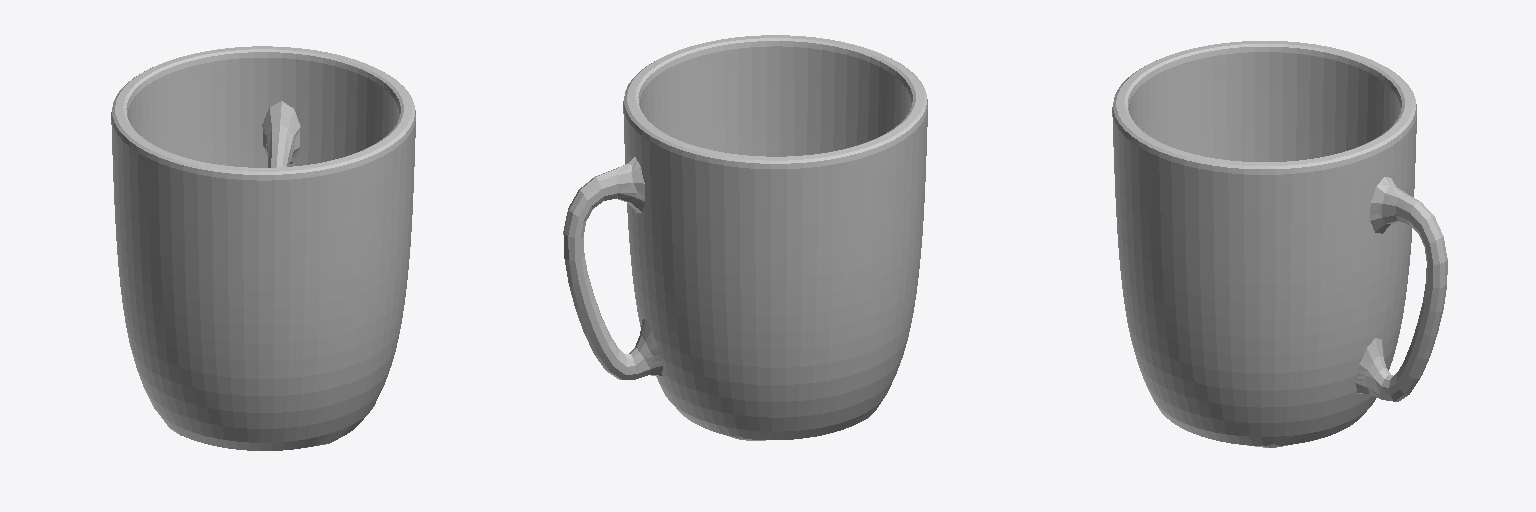
File: mug.obj
The picture shows the model from 3 angles: view 1: azimuth 30°, elevation 25°; view 2: azimuth 150°, elevation 25°; view 3: azimuth 270°, elevation 25°; orthographic projection.
Parts seen in each view (by area): view 1: mug:Mesh mug1, mug1 mug:group2; view 2: mug:Mesh mug1, mug1 mug:group2; view 3: mug:Mesh mug1, mug1 mug:group2.
Boxes of the visible parts, <box> form: mug:Mesh mug1: <box>111,46,415,428</box>; mug1 mug:group2: <box>144,125,380,450</box>; mug:Mesh mug1: <box>623,35,927,417</box>; mug1 mug:group2: <box>563,162,892,440</box>; mug:Mesh mug1: <box>1112,41,1416,422</box>; mug1 mug:group2: <box>1146,184,1447,447</box>.
Size of the model in its own units: 0.5804 by 0.6427 by 0.6386.